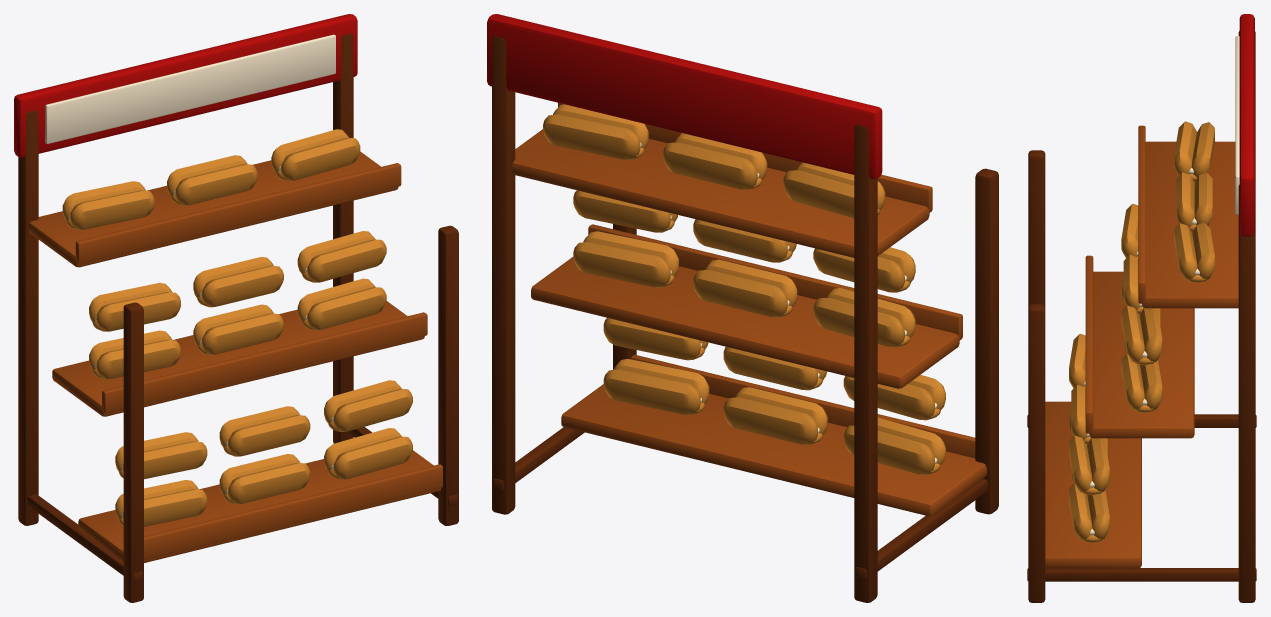
The model's file is BunRack.fbx.
3 views of the same model, side by side, from view 1: azimuth 30°, elevation 25°; view 2: azimuth 150°, elevation 25°; view 3: azimuth 270°, elevation 25° (orthographic). The views are drawn at different scales.
Visible parts, largest first — view 1: BunRack; view 2: BunRack; view 3: BunRack.
Part boxes in pixels (bbox=[...]): BunRack: bbox=[14, 14, 458, 602]; BunRack: bbox=[487, 14, 998, 602]; BunRack: bbox=[1027, 14, 1256, 602].
Size of the model in its own units: 4.1 by 4.95 by 2.4.
